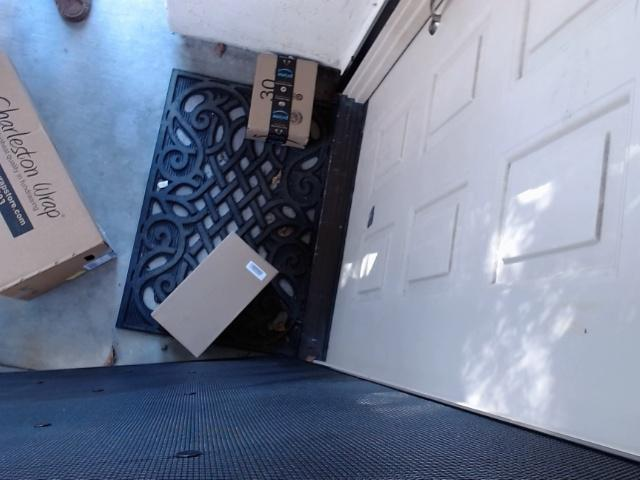box: (0, 17, 111, 292), (123, 220, 319, 354), (250, 34, 348, 171)
